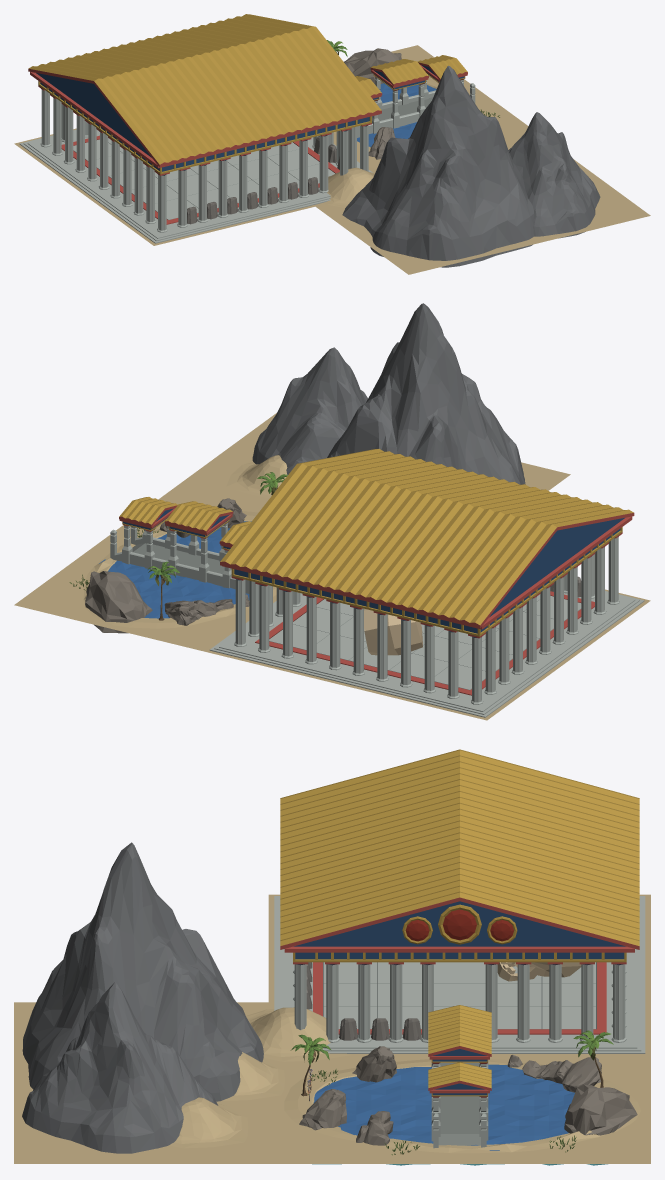
The model's file is temple_area_3.glb.
3 views of the same model, one above another, from view 1: azimuth 30°, elevation 25°; view 2: azimuth 150°, elevation 25°; view 3: azimuth 270°, elevation 25° (orthographic). The views are drawn at different scales.
Parts seen in each view (by area): view 1: Cube.040, SM_Terrain_Mountain_01, Plane.001, SM_Terrain_Mountain_01.001, Cube.041, SM_Env_Beach_02.003, SM_Env_Rock_Huge_04.001, SM_Env_Dirt_Tile_Large_01.001, SM_Env_Rock_Large_04.002; view 2: Cube.040, SM_Terrain_Mountain_01, Plane.001, Cube.041, SM_Terrain_Mountain_01.001, SM_Env_Dirt_Tile_Large_01.001, SM_Env_Rock_Huge_04.001, Plane.002, SM_Env_Beach_02.001, SM_Prop_Skeleton_Slave_Lying_01.001, SM_Env_Rock_Large_08.001; view 3: Cube.040, SM_Terrain_Mountain_01, Plane.001, SM_Terrain_Mountain_01.001, SM_Env_Dirt_Tile_Large_01.001, Cube.041, Plane.002, SM_Env_Beach_02.003, SM_Env_Beach_02.001, SM_Env_Rock_Huge_04.001, SM_Env_Beach_02.002, SM_Env_Rock_Large_08.001 (+5 smaller).
Boxes of the visible parts, box(x1,y1,x2,y2) form: Cube.040: box(19, 14, 381, 243); SM_Terrain_Mountain_01: box(342, 65, 533, 267); Plane.001: box(14, 45, 650, 274); SM_Terrain_Mountain_01.001: box(508, 112, 600, 238); Cube.041: box(355, 55, 475, 137); SM_Env_Beach_02.003: box(323, 167, 376, 207); SM_Env_Rock_Huge_04.001: box(344, 48, 401, 83); SM_Env_Dirt_Tile_Large_01.001: box(357, 83, 436, 147); SM_Env_Rock_Large_04.002: box(368, 127, 395, 159); Cube.040: box(209, 449, 644, 717); SM_Terrain_Mountain_01: box(327, 303, 525, 484); Plane.001: box(14, 413, 650, 720); Cube.041: box(110, 497, 250, 593); SM_Terrain_Mountain_01.001: box(252, 347, 367, 474); SM_Env_Dirt_Tile_Large_01.001: box(99, 521, 251, 618); SM_Env_Rock_Huge_04.001: box(85, 571, 152, 633); Plane.002: box(83, 511, 276, 628); SM_Env_Beach_02.001: box(225, 455, 287, 498); SM_Prop_Skeleton_Slave_Lying_01.001: box(364, 609, 422, 655); SM_Env_Rock_Large_08.001: box(164, 599, 233, 625); Cube.040: box(274, 749, 645, 1053); SM_Terrain_Mountain_01: box(22, 842, 263, 1101); Plane.001: box(14, 894, 650, 1163); SM_Terrain_Mountain_01.001: box(22, 982, 218, 1153); SM_Env_Dirt_Tile_Large_01.001: box(313, 1064, 574, 1150); Cube.041: box(428, 1005, 491, 1148); Plane.002: box(284, 1059, 641, 1153); SM_Env_Beach_02.003: box(246, 1007, 351, 1061); SM_Env_Beach_02.001: box(164, 1097, 248, 1148); SM_Env_Rock_Huge_04.001: box(564, 1084, 637, 1135); SM_Env_Beach_02.002: box(222, 1052, 284, 1100); SM_Env_Rock_Large_08.001: box(522, 1057, 601, 1092).
Size of what is drawn, in the model's own units: 80 by 33.03 by 80.
Materials: 4 (4 with a texture image).
